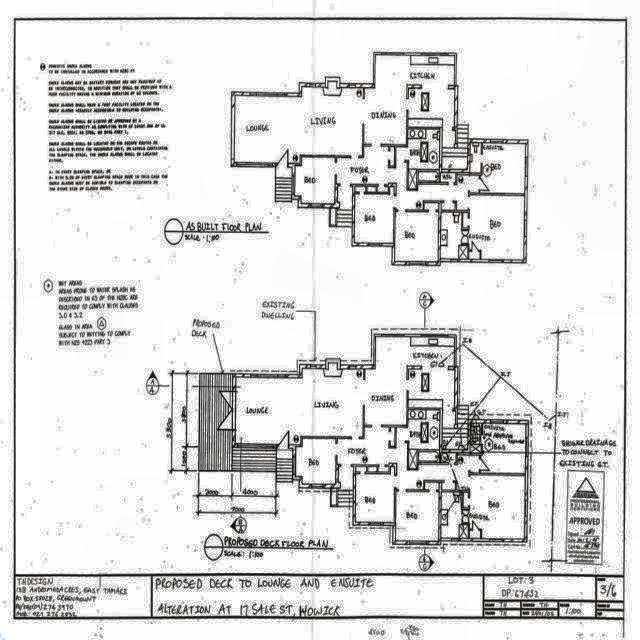room: (235, 86, 363, 164), (235, 369, 363, 444), (337, 146, 479, 210), (364, 336, 456, 428), (337, 427, 472, 489), (364, 55, 455, 145), (469, 195, 524, 259), (470, 475, 525, 539), (482, 143, 525, 194), (355, 187, 394, 243), (396, 212, 438, 261), (396, 491, 438, 540), (483, 424, 525, 473), (295, 157, 335, 203), (356, 474, 394, 522), (296, 438, 335, 484), (408, 130, 439, 169), (408, 410, 439, 449), (441, 212, 462, 259), (441, 492, 462, 538), (276, 167, 291, 201), (470, 143, 481, 172), (469, 251, 480, 259), (463, 213, 468, 228), (464, 492, 468, 507)
